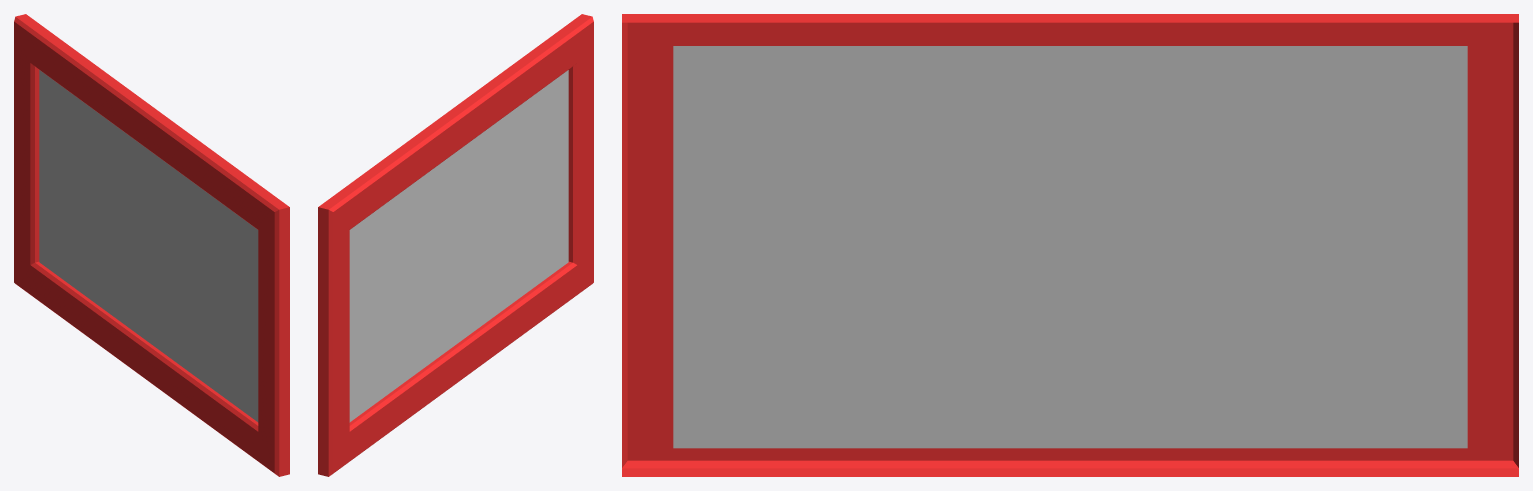
File: RespiraderoRectangular_Box.fbx
3 views of the same model, side by side, from view 1: azimuth 30°, elevation 25°; view 2: azimuth 150°, elevation 25°; view 3: azimuth 270°, elevation 25° (orthographic). The views are drawn at different scales.
Visible parts, largest first — view 1: Object002, Object001; view 2: Object002, Object001; view 3: Object003, Object001.
Part boxes in pixels (x1,y1,x2,y2): Object002: [39, 70, 258, 422]; Object001: [14, 14, 289, 476]; Object002: [349, 70, 568, 422]; Object001: [318, 14, 593, 476]; Object003: [673, 46, 1467, 448]; Object001: [622, 14, 1518, 476].
Bounding box in the file's own units: 1.05 × 35.62 × 19.9.
